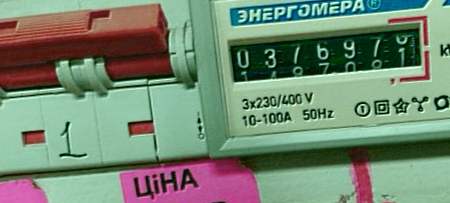0: (235, 47, 252, 70)
1: (397, 46, 408, 68)
3: (263, 47, 278, 69)
6: (315, 37, 332, 62)
7: (368, 33, 385, 57), (289, 41, 305, 65)
9: (342, 37, 358, 60)
screen: (218, 11, 438, 105)
